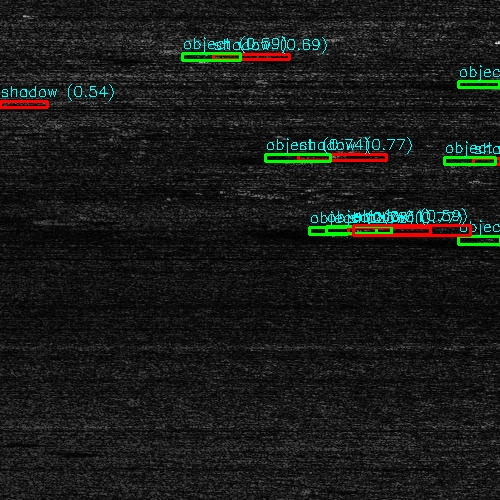rock: (310, 227, 383, 234), (190, 54, 253, 59), (260, 155, 313, 160), (16, 217, 69, 222), (466, 236, 500, 243), (461, 82, 500, 87)
shadow: (347, 227, 468, 234), (287, 155, 369, 160), (222, 54, 300, 59), (0, 440, 27, 445), (43, 217, 67, 222), (482, 82, 500, 87)
